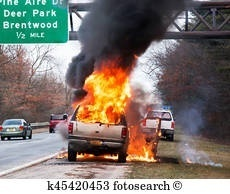fire: (62, 58, 164, 169), (72, 61, 132, 123)
